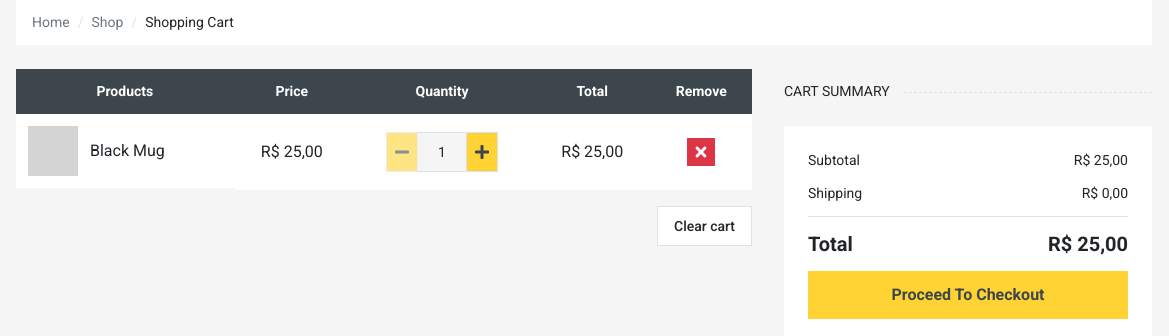
Test: Cart › shows inline the error of the API when the quantity is refused
Expected: the text "Black Mug" is shown, left=90, top=139, right=165, bottom=163
What coordinates should you click on to do the following:
click the button named "Increase quantity"
I would click on:
 (482, 152)
Its box is left=466, top=132, right=498, bottom=172.
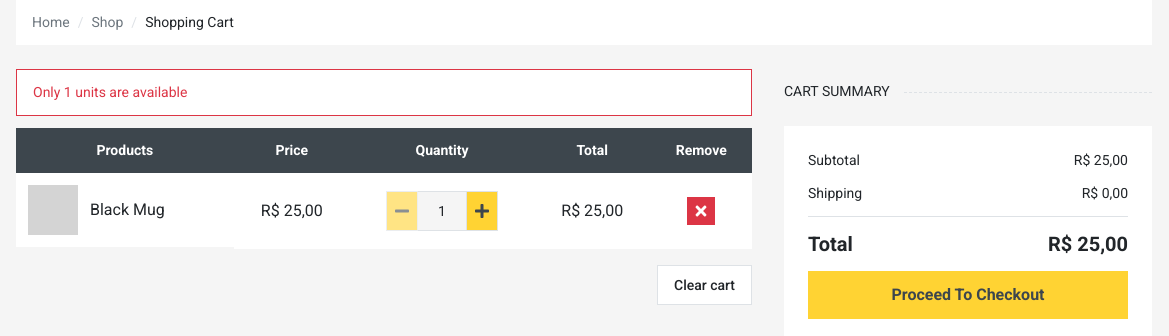
Expected: the text "Black Mug" is shown, left=90, top=198, right=165, bottom=222
Expected: the message reads "Only 1 units are available", left=33, top=84, right=187, bottom=100
